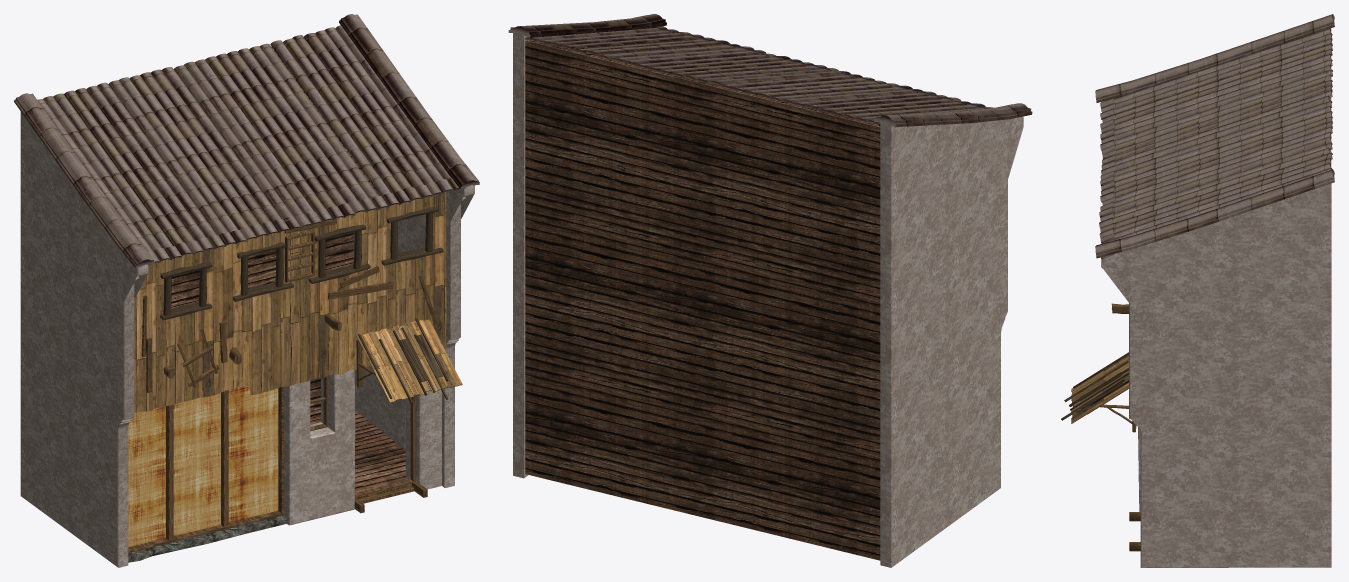
Rendered from house1_LOD0.FBX.
3 views of the same model, side by side, from view 1: azimuth 30°, elevation 25°; view 2: azimuth 150°, elevation 25°; view 3: azimuth 270°, elevation 25° (orthographic). The views are drawn at different scales.
Visible parts, largest first — view 1: outerwalls01, tile2, frontwall01, paperwall01, roof05, windows_frames01, porch, tile1, side_frame01, frontwall_props01, woodenwalls01, floor (+3 smaller); view 2: woodenwalls01, outerwalls01, tile2, roof05, tile1; view 3: outerwalls01, tile2, roof05, tile1, porch, porchprops.
Boxes of the visible parts, x1=… form: outerwalls01: x1=20, y1=111, x2=474, y2=567; tile2: x1=37, y1=25, x2=450, y2=251; frontwall01: x1=134, y1=192, x2=446, y2=412; paperwall01: x1=128, y1=386, x2=278, y2=547; roof05: x1=14, y1=14, x2=479, y2=268; windows_frames01: x1=160, y1=206, x2=443, y2=320; porch: x1=356, y1=319, x2=462, y2=402; tile1: x1=148, y1=178, x2=474, y2=265; side_frame01: x1=128, y1=387, x2=283, y2=552; frontwall_props01: x1=141, y1=219, x2=438, y2=392; woodenwalls01: x1=159, y1=46, x2=438, y2=420; floor: x1=171, y1=262, x2=408, y2=492; woodenwalls01: x1=525, y1=40, x2=880, y2=560; outerwalls01: x1=513, y1=33, x2=1023, y2=567; tile2: x1=524, y1=28, x2=985, y2=125; roof05: x1=508, y1=14, x2=1032, y2=127; tile1: x1=656, y1=26, x2=993, y2=108; outerwalls01: x1=1101, y1=28, x2=1331, y2=567; tile2: x1=1110, y1=28, x2=1332, y2=240; roof05: x1=1095, y1=14, x2=1334, y2=258; tile1: x1=1099, y1=98, x2=1116, y2=259; porch: x1=1071, y1=355, x2=1128, y2=423; porchprops: x1=1061, y1=352, x2=1128, y2=420.
Bounding box in the file's own units: 540 × 602 × 379.
